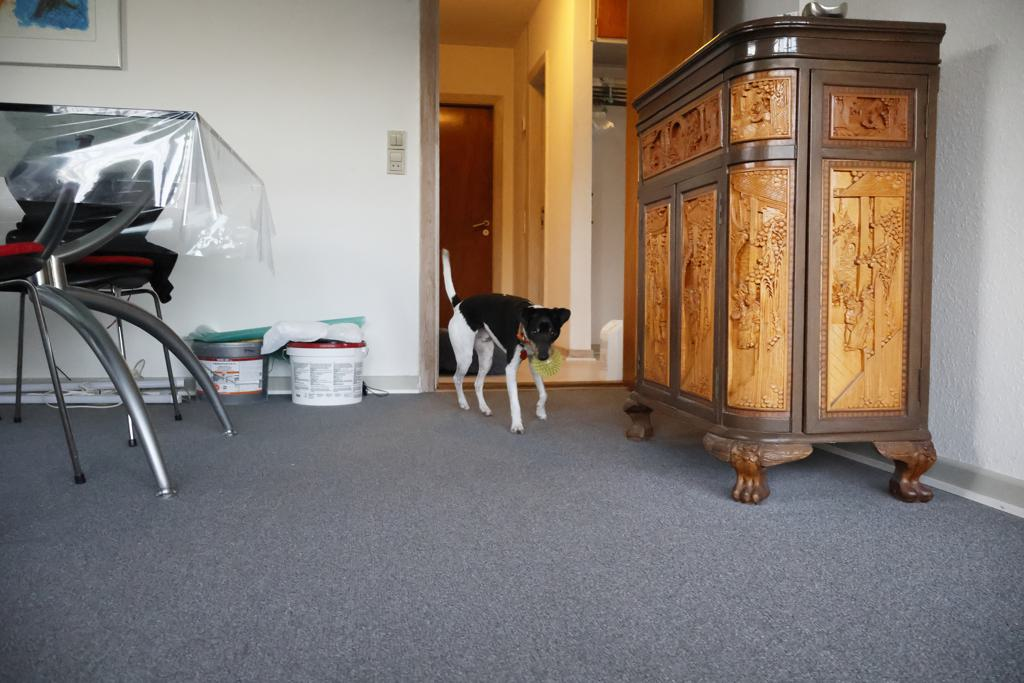Dog: (431, 244, 577, 439)
